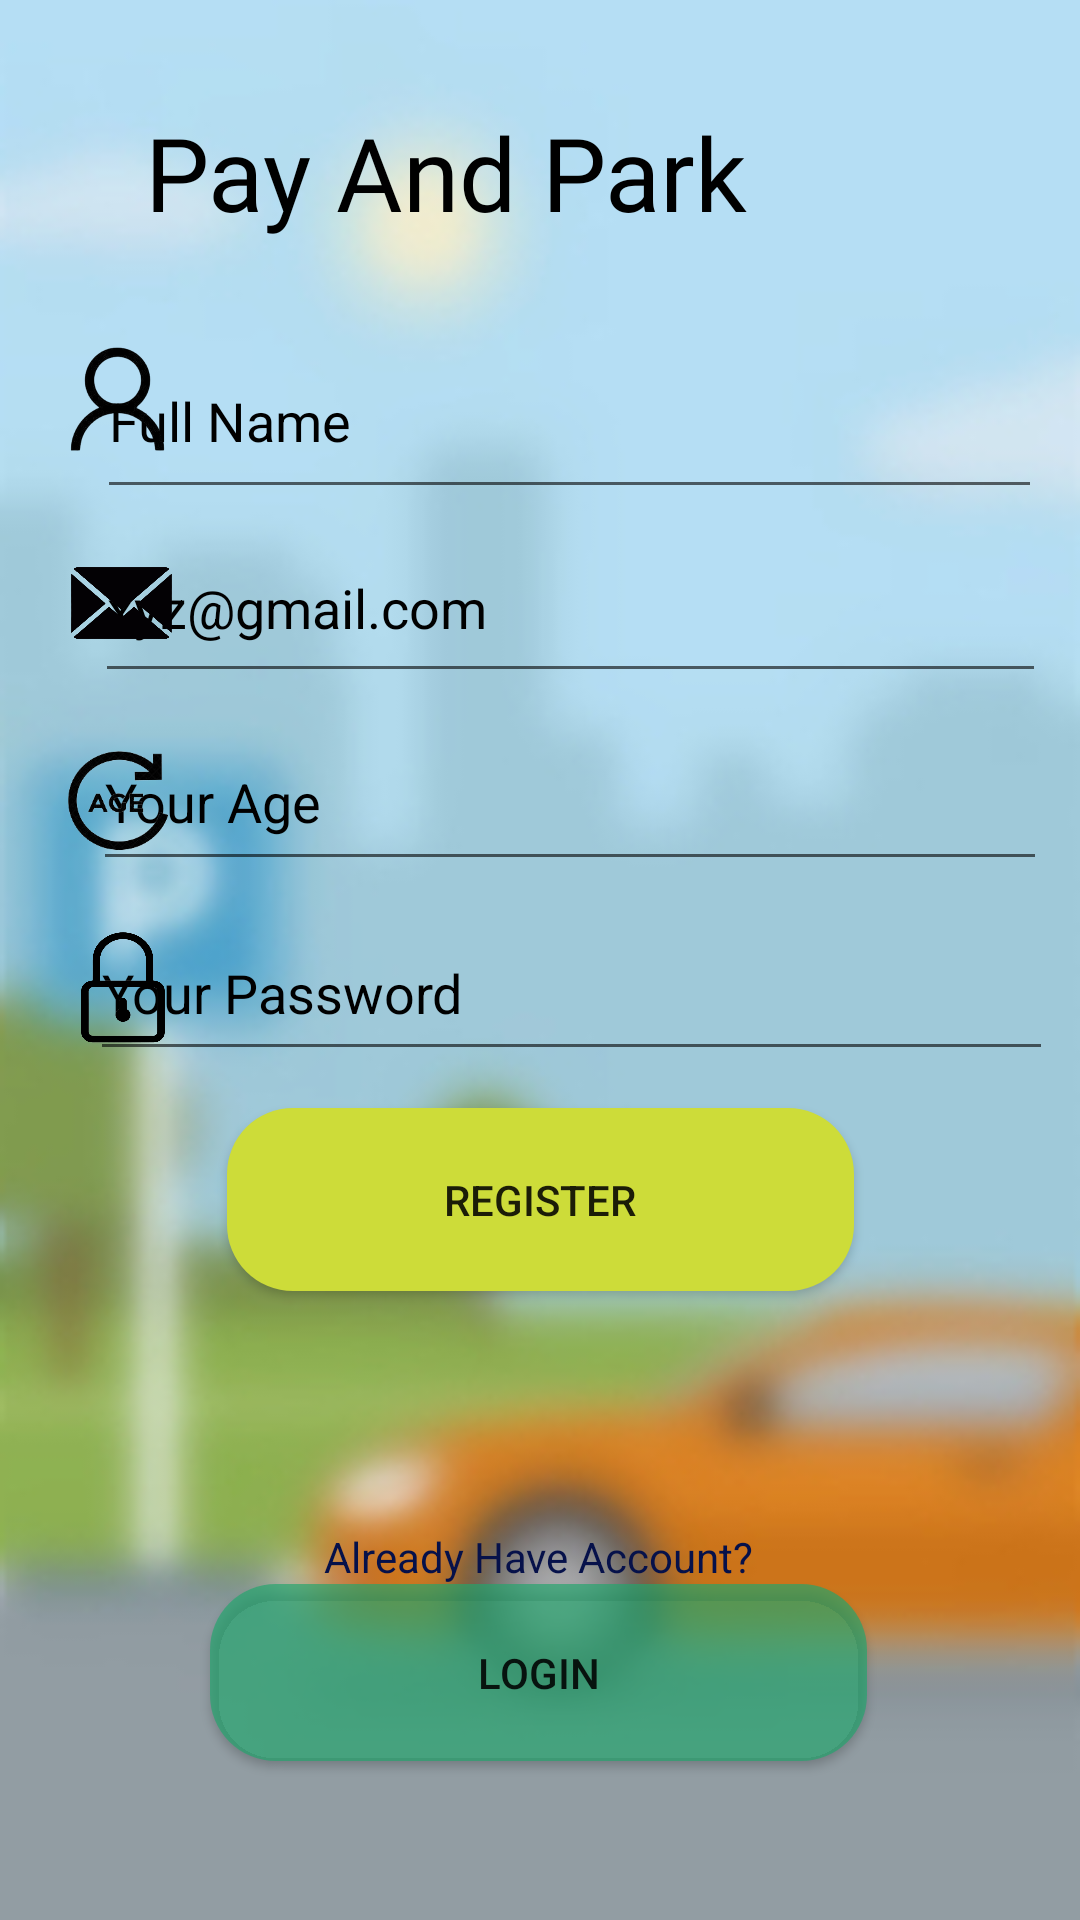

Where icons sit on this 1080×1920 app screen, as rect(x1, y1, x2, y2):
email: rect(71, 567, 185, 641)
